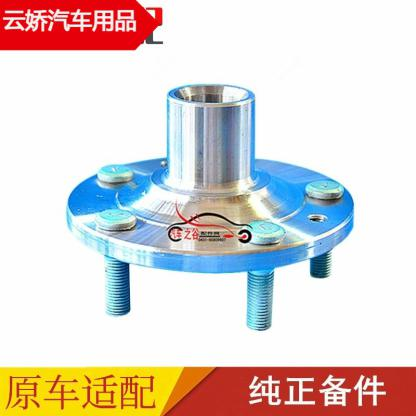FOD: (64, 81, 356, 275)
